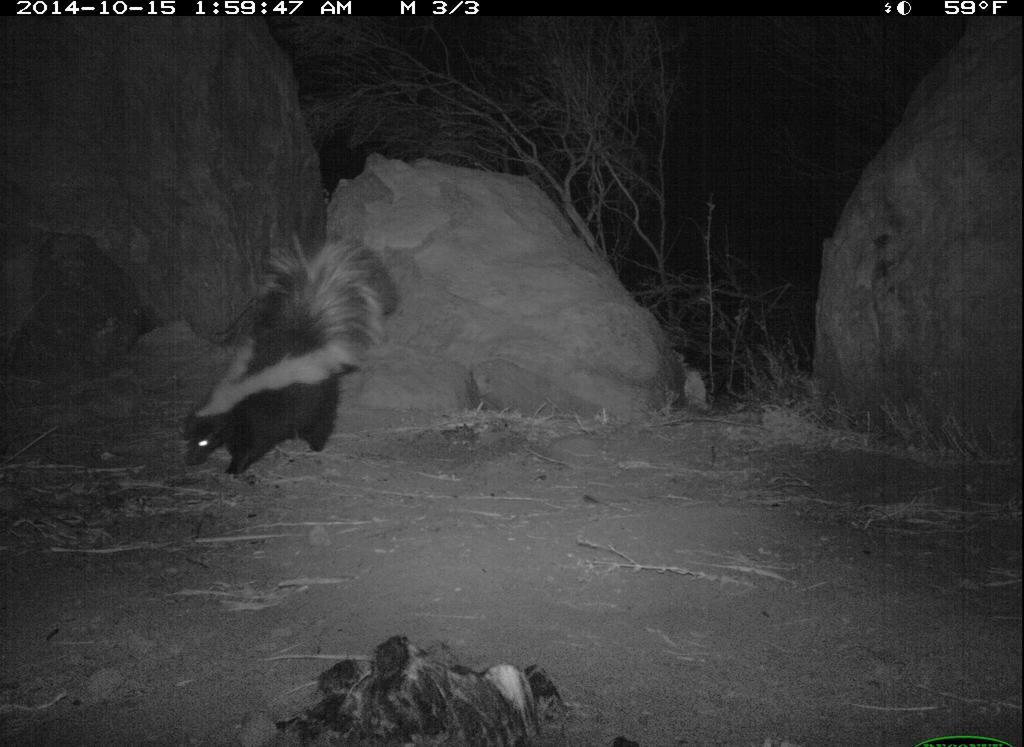skunk: (177, 231, 402, 487)
